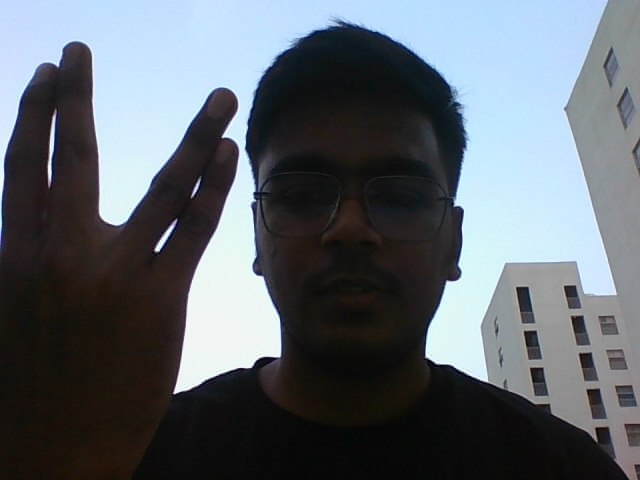livelong: (5, 42, 223, 425)
